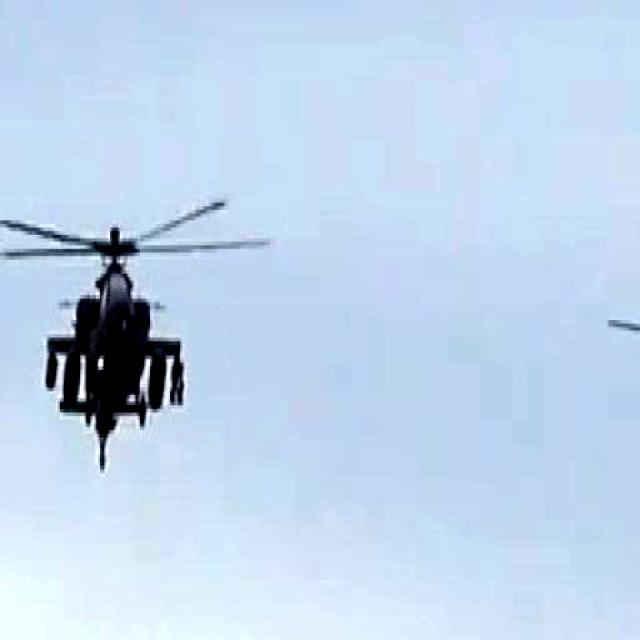drone: (0, 175, 251, 474)
